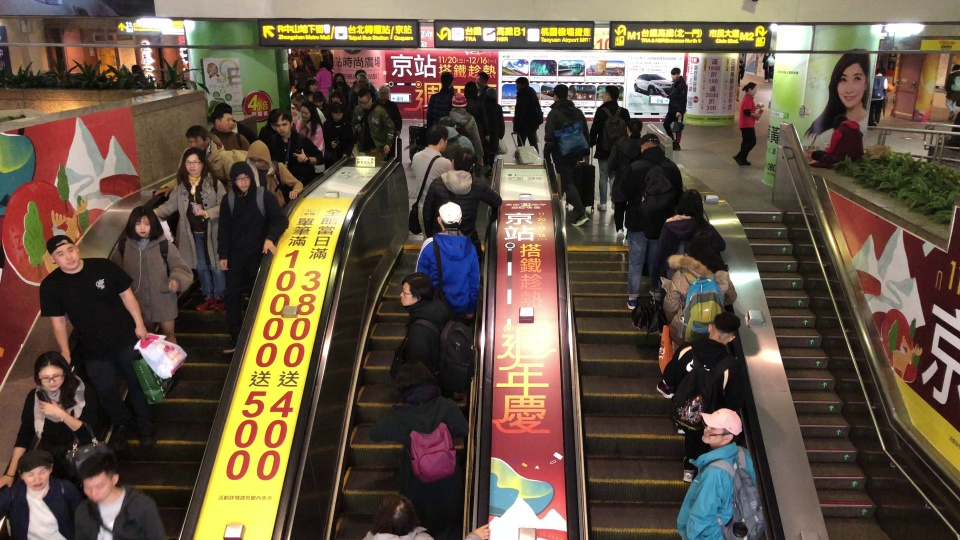person_head: (369, 493, 422, 535), (78, 453, 119, 503), (395, 361, 442, 403), (697, 408, 743, 450), (16, 448, 55, 490), (32, 350, 71, 390), (176, 147, 209, 191), (682, 231, 720, 269), (125, 205, 164, 241), (397, 272, 433, 311), (45, 234, 81, 271), (707, 312, 740, 345), (674, 187, 705, 217), (435, 200, 463, 232), (228, 162, 254, 195), (246, 139, 272, 169), (185, 125, 211, 150), (425, 124, 449, 151), (451, 148, 475, 172), (213, 103, 232, 131), (640, 133, 660, 154), (276, 113, 293, 137), (355, 88, 374, 109), (265, 108, 284, 128), (601, 84, 620, 103), (326, 102, 344, 121), (299, 102, 316, 121), (626, 118, 643, 137), (437, 115, 458, 130), (551, 84, 569, 101), (832, 114, 851, 130), (288, 93, 305, 110), (450, 92, 468, 108), (439, 71, 454, 90), (377, 84, 391, 103), (463, 81, 477, 100), (740, 82, 757, 96), (305, 77, 319, 93), (332, 72, 346, 88), (475, 72, 489, 88), (514, 77, 529, 90), (485, 88, 497, 103), (669, 67, 682, 80), (356, 74, 367, 87), (131, 64, 142, 74), (117, 65, 130, 73), (875, 66, 886, 75), (308, 44, 318, 52), (318, 61, 327, 69), (949, 63, 957, 72), (297, 59, 303, 66), (300, 47, 306, 53)
person_vbox: (37, 234, 159, 462), (649, 187, 730, 398), (0, 350, 99, 512), (662, 231, 740, 434), (117, 205, 194, 391), (372, 360, 472, 501), (217, 161, 289, 352), (610, 133, 684, 310), (152, 147, 227, 314), (671, 311, 742, 482), (676, 409, 768, 540), (394, 271, 479, 403), (422, 148, 501, 271), (71, 452, 165, 540), (414, 200, 481, 321), (0, 449, 82, 540), (543, 84, 591, 226), (153, 125, 248, 192), (361, 493, 489, 540), (588, 83, 630, 211), (606, 118, 645, 246), (410, 123, 452, 239), (246, 139, 303, 207), (275, 113, 324, 185), (349, 88, 396, 157), (808, 113, 864, 169), (732, 82, 765, 168), (448, 92, 484, 166), (463, 81, 489, 177), (512, 77, 543, 154), (662, 67, 689, 150), (481, 87, 505, 176), (425, 70, 455, 141), (210, 103, 250, 150), (214, 102, 258, 144), (437, 115, 475, 160), (323, 101, 349, 163), (295, 102, 324, 153), (288, 93, 326, 130), (375, 85, 402, 136), (867, 65, 888, 129), (258, 108, 285, 156), (943, 63, 959, 120), (327, 68, 350, 103), (352, 74, 378, 104), (315, 60, 333, 97), (294, 59, 313, 93), (475, 71, 491, 99), (307, 44, 323, 70), (304, 77, 320, 101), (116, 64, 131, 80), (131, 65, 146, 81), (299, 47, 309, 61)
